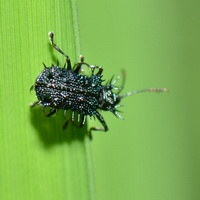insect: (31, 32, 167, 130)
